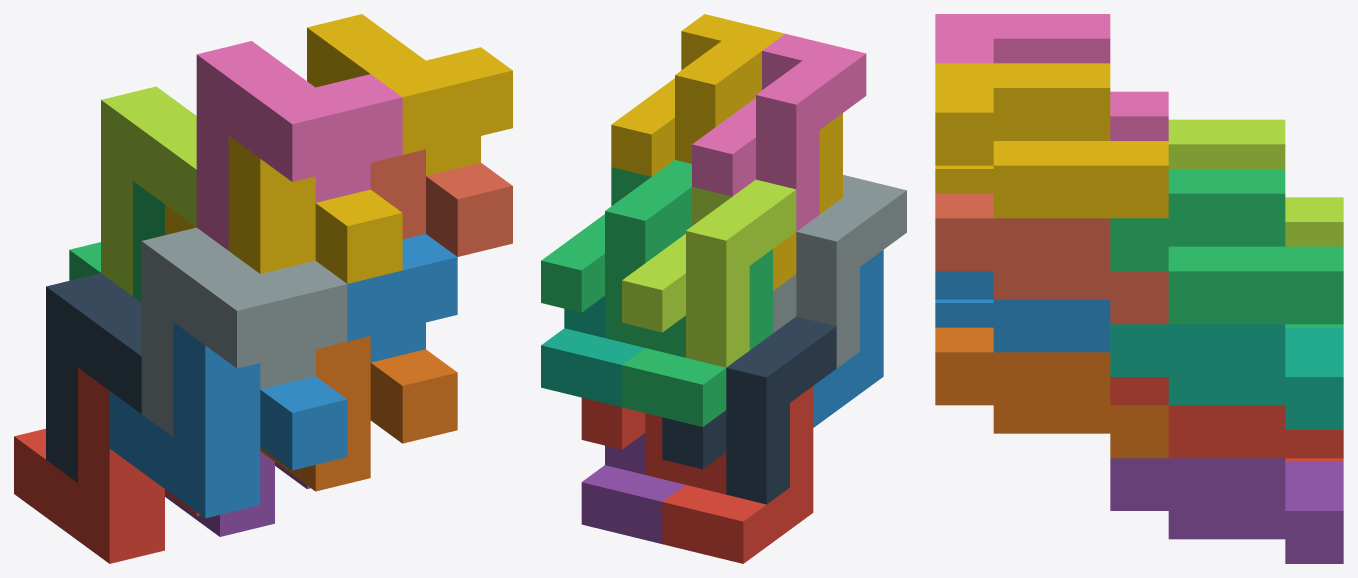
File: tiling.obj
3 views of the same model, side by side, from view 1: azimuth 30°, elevation 25°; view 2: azimuth 150°, elevation 25°; view 3: azimuth 270°, elevation 25° (orthographic). The views are drawn at different scales.
Visible parts, largest first — view 1: copy_1_domain_2, copy_2_domain_4, copy_2_domain_2, copy_2_domain_8, copy_1_domain_4, copy_1_domain_1, copy_2_domain_1, copy_2_domain_3, copy_1_domain_6, copy_1_domain_8, copy_2_domain_6, copy_1_domain_3 (+1 smaller); view 2: copy_2_domain_3, copy_2_domain_4, copy_2_domain_1, copy_2_domain_8, copy_2_domain_7, copy_2_domain_2, copy_1_domain_1, copy_1_domain_3, copy_1_domain_5, copy_1_domain_7, copy_1_domain_2, copy_2_domain_5 (+1 smaller); view 3: copy_2_domain_8, copy_2_domain_7, copy_1_domain_5, copy_1_domain_7, copy_1_domain_6, copy_1_domain_8, copy_2_domain_4, copy_2_domain_5, copy_2_domain_3, copy_2_domain_6, copy_1_domain_2, copy_1_domain_4.
Boxes of the visible parts, <box> form: copy_1_domain_2: <box>109,322,347,518</box>; copy_2_domain_4: <box>196,41,402,250</box>; copy_2_domain_2: <box>141,227,347,436</box>; copy_2_domain_8: <box>307,14,512,175</box>; copy_1_domain_4: <box>165,136,402,283</box>; copy_1_domain_1: <box>14,368,200,563</box>; copy_2_domain_1: <box>46,273,141,482</box>; copy_2_domain_3: <box>101,86,196,295</box>; copy_1_domain_6: <box>260,336,457,491</box>; copy_1_domain_8: <box>370,149,512,256</box>; copy_2_domain_6: <box>347,234,457,362</box>; copy_1_domain_3: <box>69,181,164,302</box>; copy_2_domain_3: <box>622,179,796,367</box>; copy_2_domain_4: <box>692,33,866,231</box>; copy_2_domain_1: <box>662,316,836,504</box>; copy_2_domain_8: <box>611,14,784,176</box>; copy_2_domain_7: <box>541,160,691,347</box>; copy_2_domain_2: <box>773,175,906,368</box>; copy_1_domain_1: <box>662,386,813,563</box>; copy_1_domain_3: <box>622,249,772,426</box>; copy_1_domain_5: <box>581,433,685,543</box>; copy_1_domain_7: <box>541,296,644,407</box>; copy_1_domain_2: <box>813,250,883,427</box>; copy_2_domain_5: <box>581,397,685,484</box>; copy_2_domain_8: <box>935,63,1168,218</box>; copy_2_domain_7: <box>1110,169,1343,324</box>; copy_1_domain_5: <box>1110,458,1343,563</box>; copy_1_domain_7: <box>1110,324,1343,429</box>; copy_1_domain_6: <box>935,327,1168,458</box>; copy_1_domain_8: <box>935,193,1168,324</box>; copy_2_domain_4: <box>935,14,1168,140</box>; copy_2_domain_5: <box>1110,377,1343,458</box>; copy_2_domain_3: <box>1168,119,1343,246</box>; copy_2_domain_6: <box>935,271,1110,352</box>; copy_1_domain_2: <box>935,299,993,327</box>; copy_1_domain_4: <box>935,165,993,193</box>.
Bounding box in the file's own units: 5 × 9 × 7.
